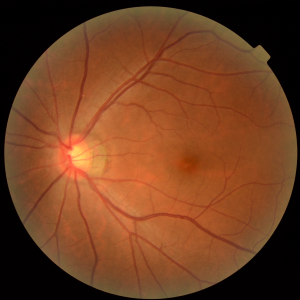healthy_eye: (36, 99, 251, 216)
